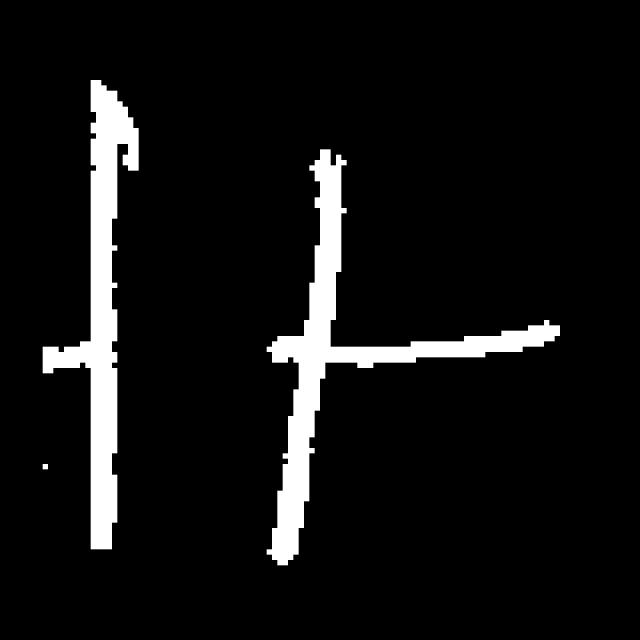capacitor: (69, 65, 353, 574)
